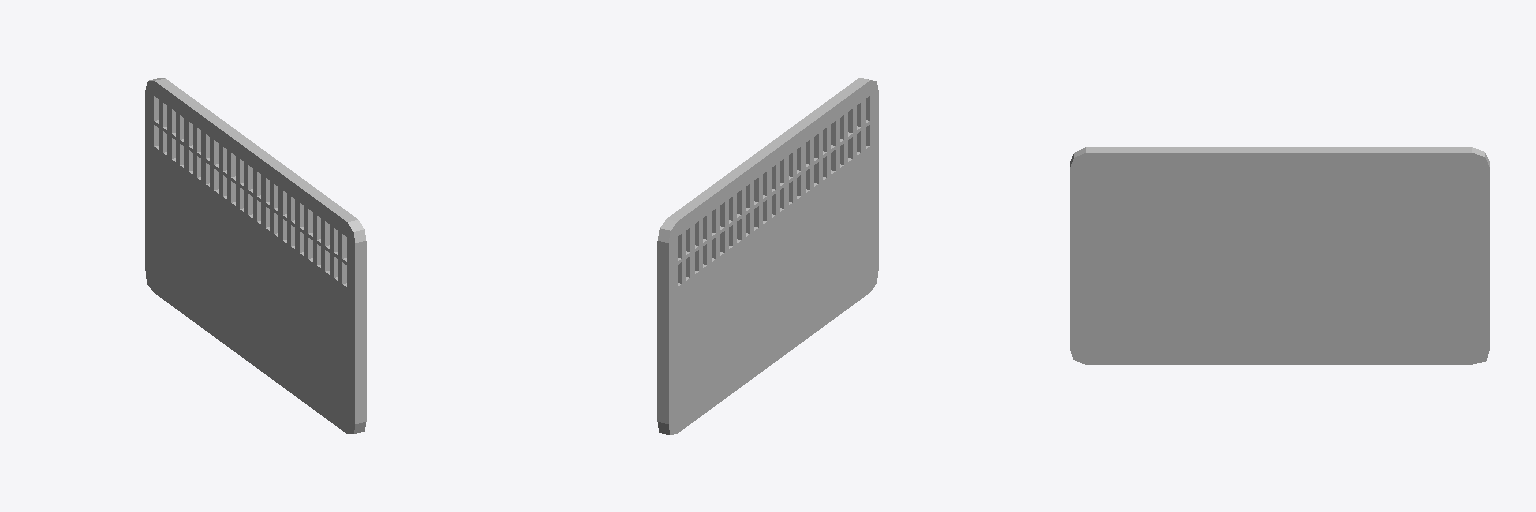
File: heater.obj
The picture shows the model from 3 angles: view 1: azimuth 30°, elevation 25°; view 2: azimuth 150°, elevation 25°; view 3: azimuth 270°, elevation 25°; orthographic projection.
Visible parts, largest first — view 1: Cube.020; view 2: Cube.020; view 3: Cube.020.
Boxes of the visible parts, x1,y1,x2,y2 form: Cube.020: [145, 78, 366, 433]; Cube.020: [657, 78, 878, 434]; Cube.020: [1070, 147, 1489, 364].
Bounding box in the file's own units: 0.0645 × 1.18 × 2.13.